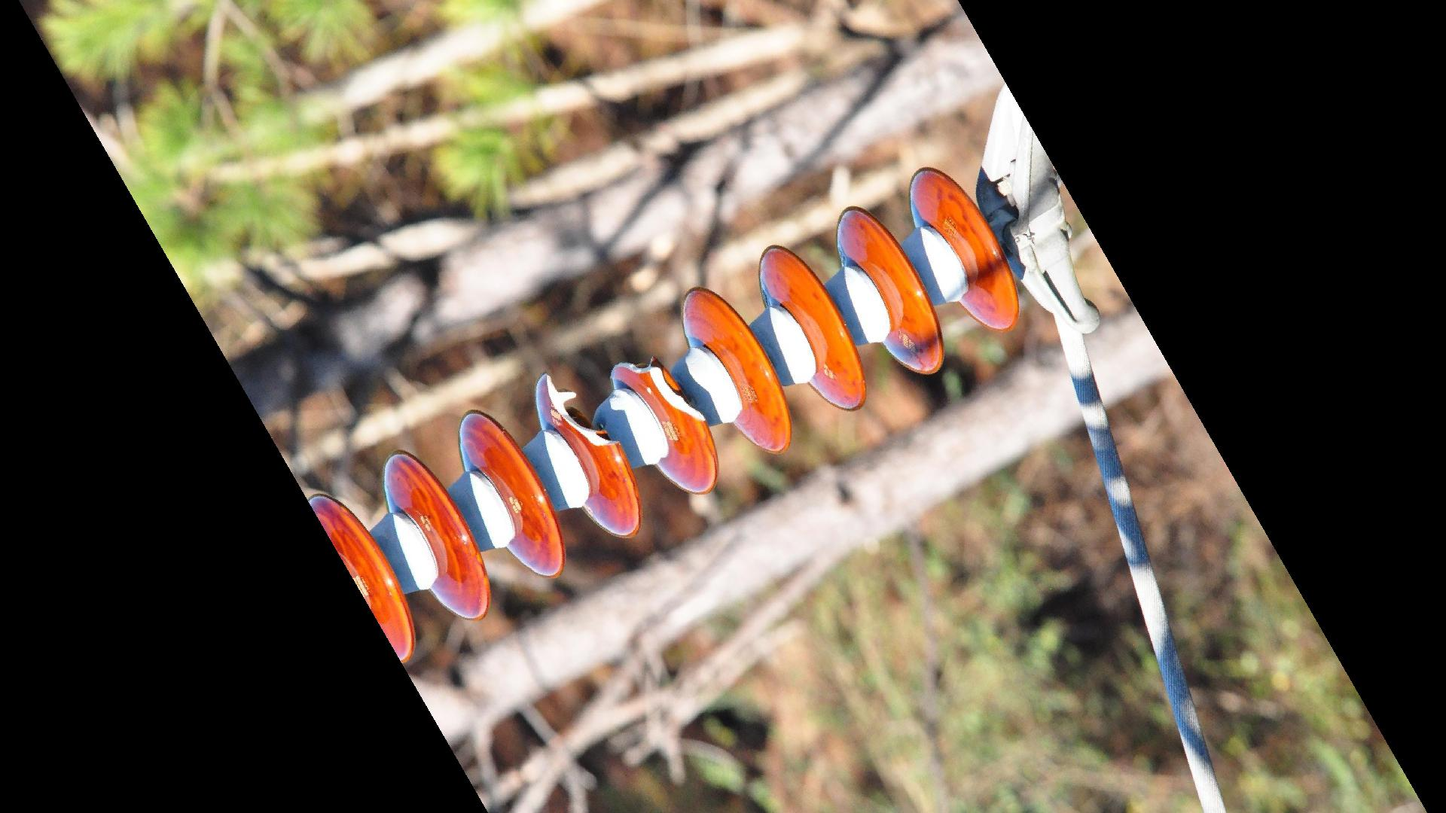insulator: (307, 161, 1024, 659)
insulator_breakage: (609, 349, 715, 432), (536, 368, 624, 458)
